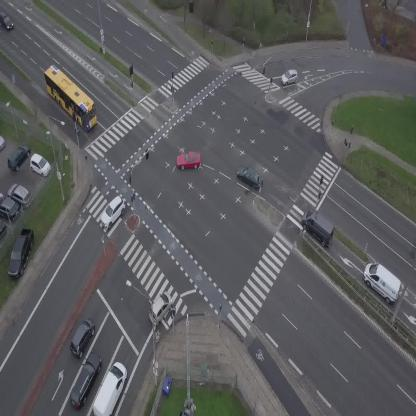bus: (35, 62, 106, 133)
car: (65, 349, 107, 411), (65, 315, 100, 359), (94, 194, 131, 231), (143, 289, 178, 328), (234, 163, 266, 192), (176, 151, 201, 170), (0, 10, 16, 33), (279, 69, 299, 86)
lorry: (356, 258, 408, 307), (88, 360, 133, 416), (295, 204, 343, 250)
